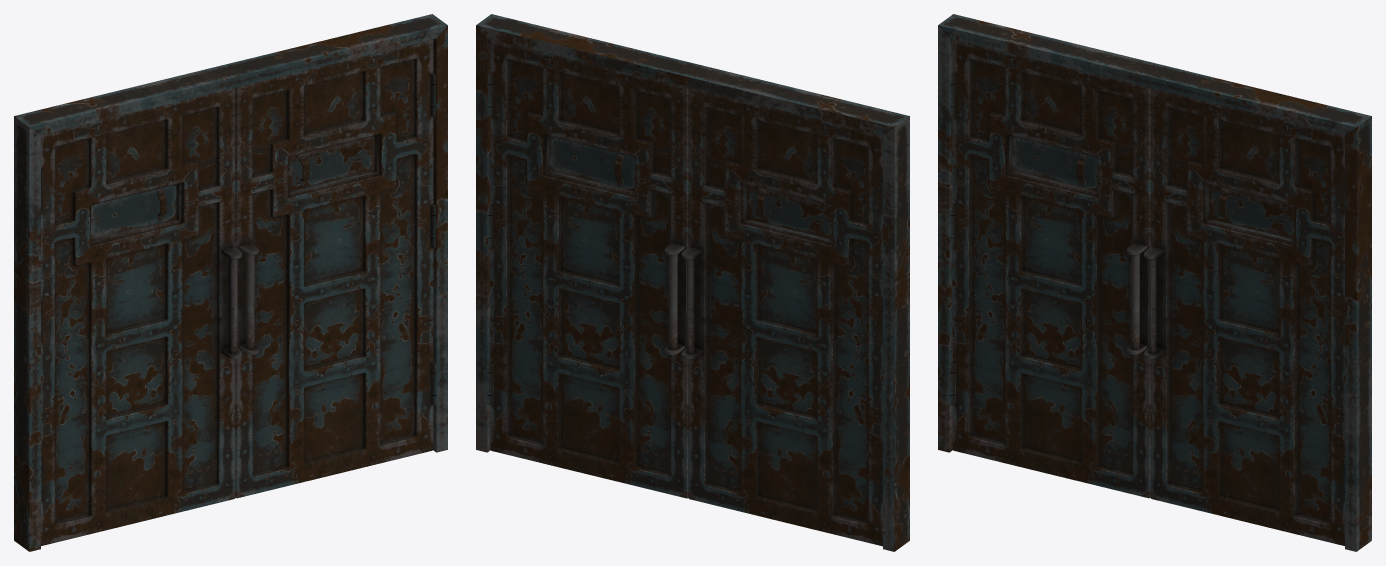
File: Steel_Door_1_B.glb
3 views of the same model, side by side, from view 1: azimuth 30°, elevation 25°; view 2: azimuth 150°, elevation 25°; view 3: azimuth 330°, elevation 25° (orthographic).
Visible parts, largest first — view 1: Door_1, Door_2, Door_Frame, Door_Window, Door_Window.001; view 2: Door_1, Door_2, Door_Frame, Door_Window.001, Door_Window; view 3: Door_2, Door_1, Door_Frame, Door_Window.001, Door_Window.
Boxes of the visible parts, x1=… form: Door_1: x1=235, y1=39, x2=436, y2=498; Door_2: x1=41, y1=88, x2=241, y2=545; Door_Frame: x1=14, y1=14, x2=447, y2=551; Door_Window: x1=288, y1=136, x2=374, y2=191; Door_Window.001: x1=91, y1=184, x2=176, y2=239; Door_1: x1=487, y1=39, x2=687, y2=498; Door_2: x1=682, y1=87, x2=882, y2=546; Door_Frame: x1=476, y1=14, x2=909, y2=551; Door_Window.001: x1=747, y1=184, x2=832, y2=239; Door_Window: x1=549, y1=136, x2=634, y2=191; Door_2: x1=949, y1=39, x2=1150, y2=498; Door_1: x1=1144, y1=88, x2=1344, y2=545; Door_Frame: x1=938, y1=14, x2=1371, y2=551; Door_Window.001: x1=1011, y1=136, x2=1097, y2=190; Door_Window: x1=1209, y1=184, x2=1294, y2=239.
Size of the model in its own units: 2.12 by 2.05 by 0.2792.
Materials: 1 (1 with a texture image).
